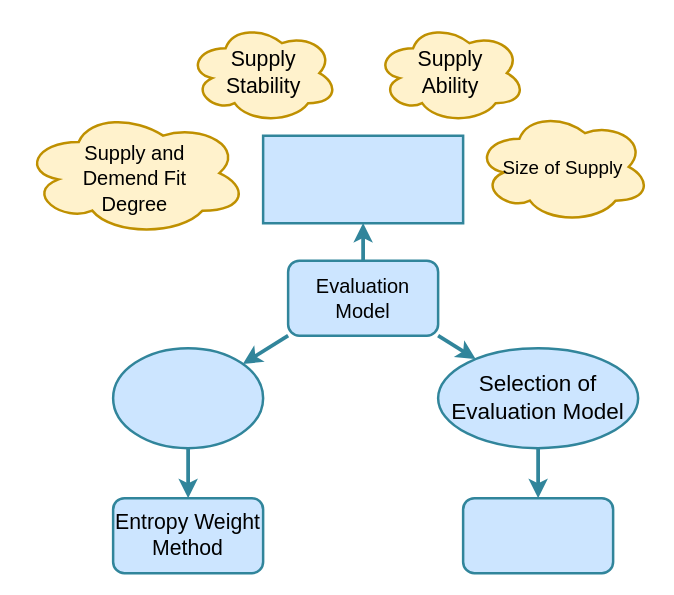
Image size: 674x595. Some labels were removed from this diagram. The box of each missing label's shape, as (x1, y1, x2, y2) in pixels:
Determination of Evaluation indicators: (261, 134, 464, 224)
RTOPSIS: (461, 496, 614, 574)
Weight Calculation: (111, 346, 264, 449)
